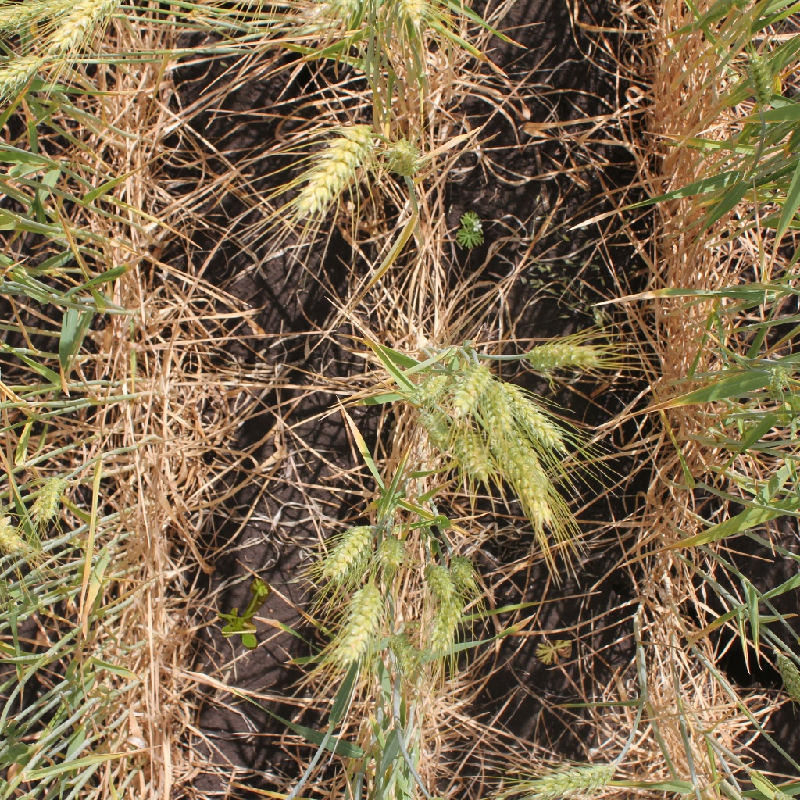spikelet: (480, 387, 553, 521), (291, 121, 376, 221), (497, 378, 565, 446), (333, 580, 385, 665), (523, 758, 617, 799), (50, 1, 127, 49), (320, 522, 373, 581), (526, 337, 601, 372), (450, 358, 491, 415), (1, 1, 77, 31), (425, 596, 463, 655), (452, 424, 492, 479), (1, 51, 43, 100), (745, 48, 777, 105), (31, 474, 66, 523), (385, 137, 424, 179), (773, 651, 799, 702), (1, 507, 27, 555), (413, 369, 449, 403), (455, 210, 485, 249), (426, 562, 456, 600), (376, 534, 407, 569), (387, 1, 430, 26), (765, 362, 793, 391), (451, 555, 477, 586)
weed: (208, 570, 278, 652), (455, 210, 484, 250), (535, 640, 572, 665)
